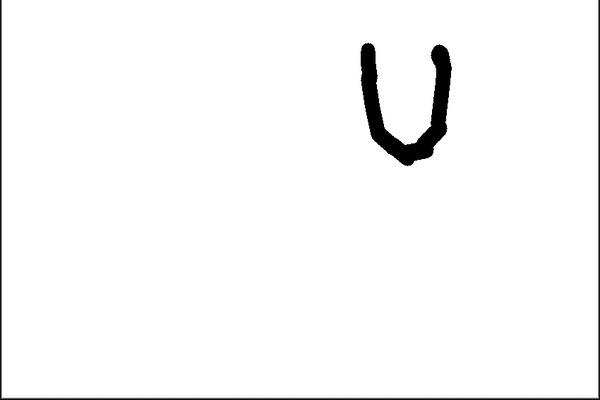U: (353, 34, 466, 168)
